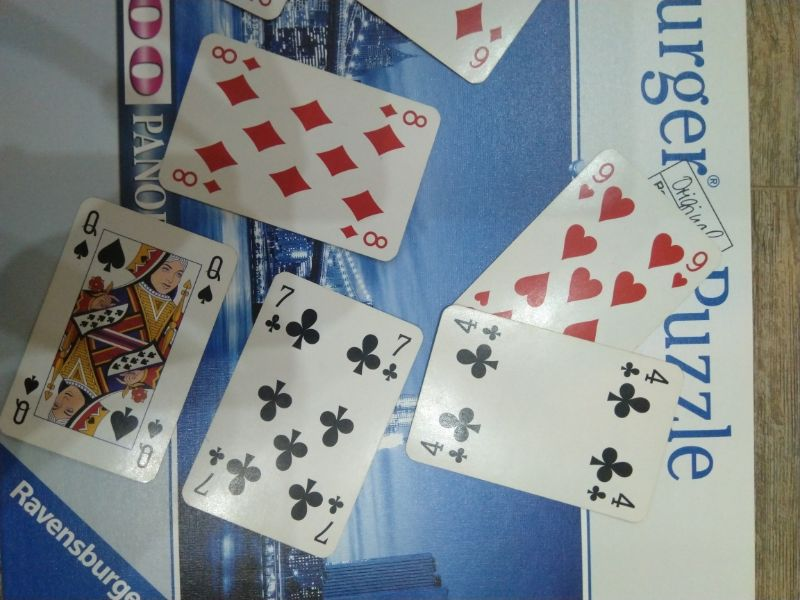4c: (583, 477, 640, 517), (616, 353, 674, 391), (450, 308, 506, 347), (415, 435, 474, 469)
6d: (462, 24, 510, 74)
7c: (379, 326, 417, 390), (190, 443, 229, 503), (262, 277, 299, 339), (310, 492, 348, 551)
8d: (166, 160, 230, 201), (373, 94, 430, 134), (338, 217, 395, 256), (208, 38, 264, 77)
9h: (572, 151, 620, 204), (670, 246, 713, 294)
Qs: (8, 365, 45, 439), (67, 205, 109, 265), (131, 411, 167, 479), (192, 250, 230, 310)
